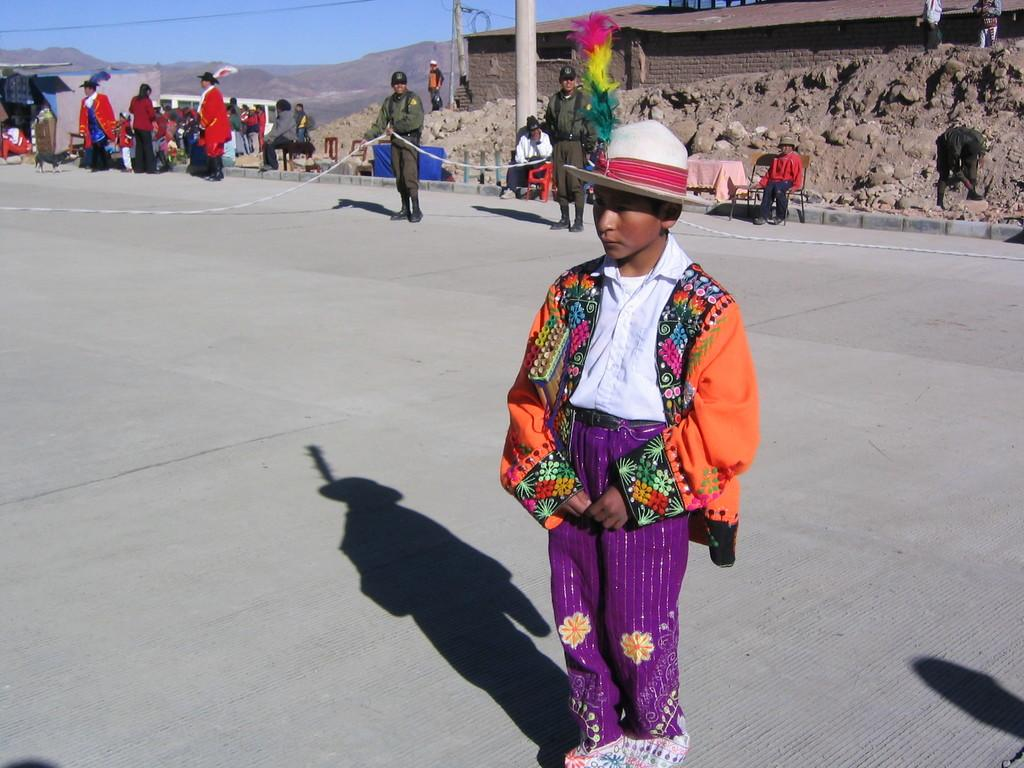Hat: (564, 117, 711, 207), (196, 68, 217, 87), (525, 114, 541, 134), (778, 134, 798, 150), (560, 66, 575, 80), (390, 70, 406, 82), (79, 79, 99, 88)
